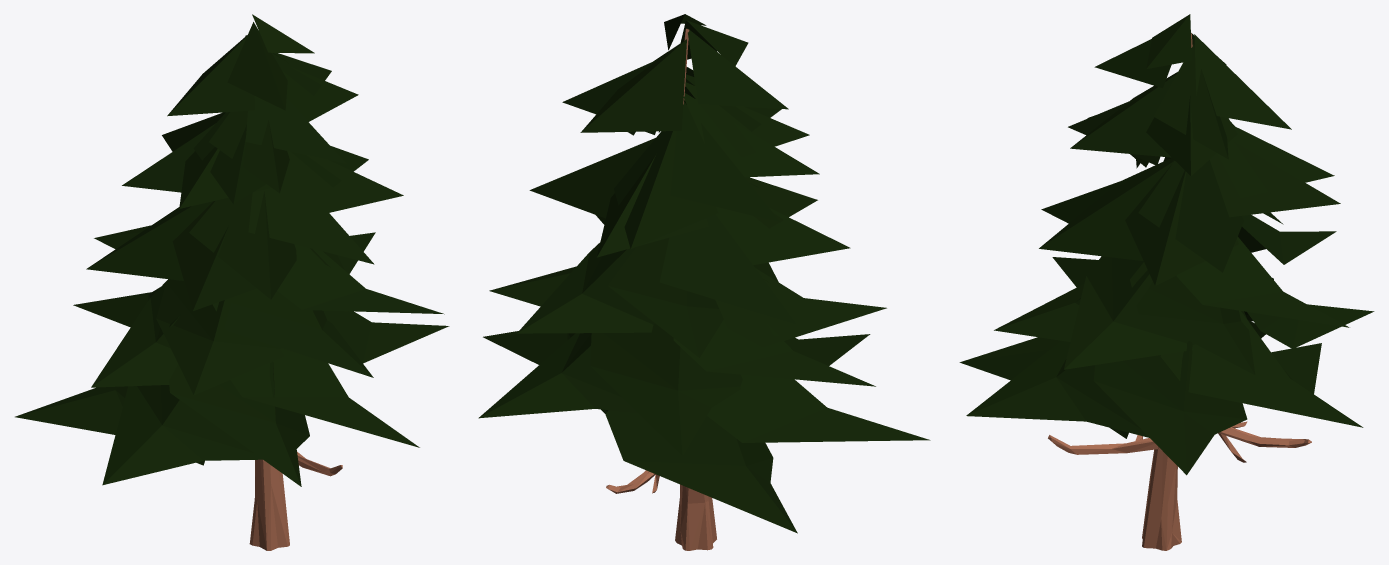
File: tree2far.glb
3 views of the same model, side by side, from view 1: azimuth 30°, elevation 25°; view 2: azimuth 150°, elevation 25°; view 3: azimuth 270°, elevation 25° (orthographic). The views are drawn at different scales.
Parts seen in each view (by area): view 1: Pine_2; view 2: Pine_2; view 3: Pine_2.
Boxes of the visible parts, bbox=[...] form: Pine_2: bbox=[15, 14, 449, 550]; Pine_2: bbox=[478, 14, 930, 550]; Pine_2: bbox=[959, 14, 1374, 550].
Size of the model in its own units: 5.73 by 7.3 by 5.22.
